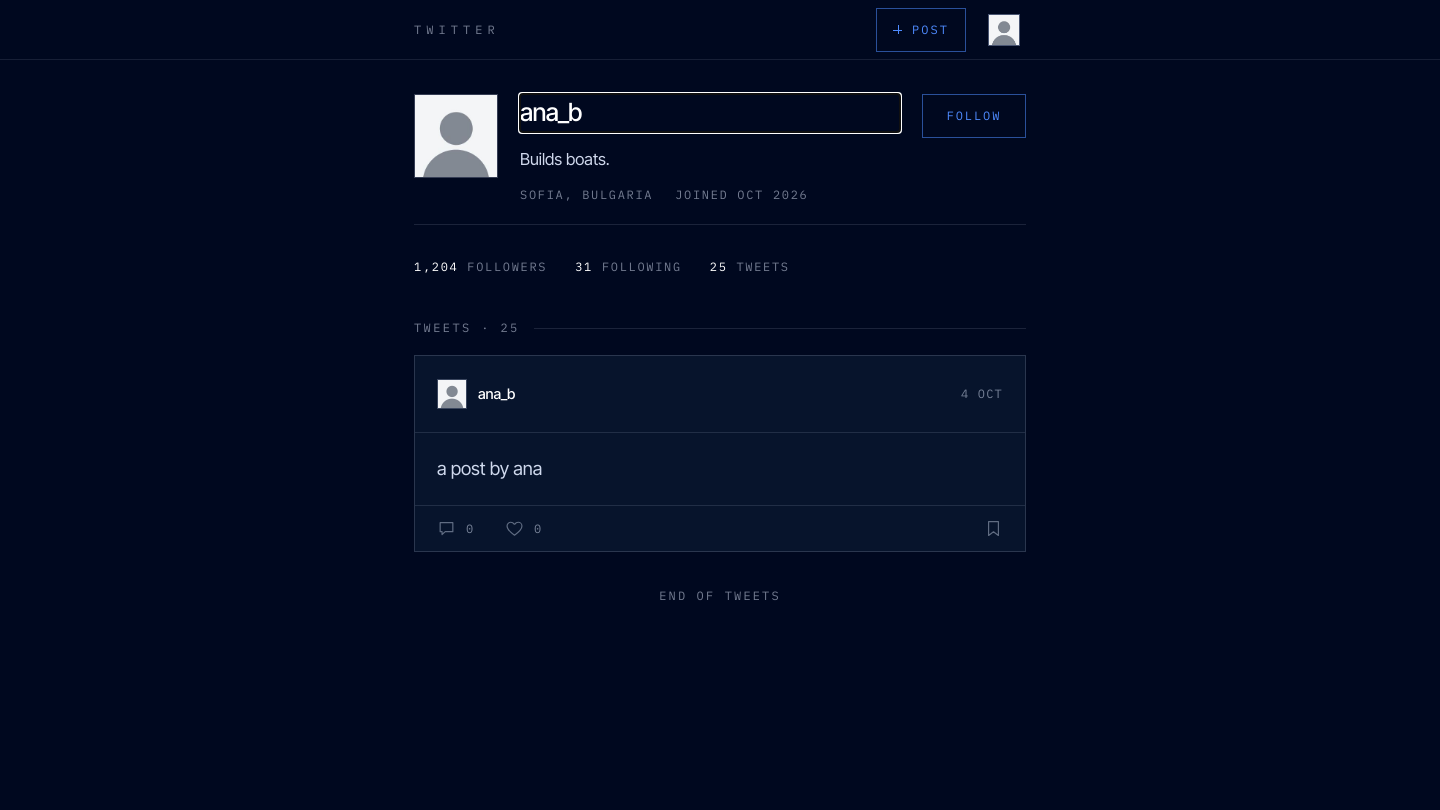
Scenario: the follower and following lists › should_open_the_followers_of_the_profile_when_the_followers_stat_is_pressed
Click the button "1,204 FOLLOWERS" at (481, 267), box [414,245,547,289]
Wait 1 ms
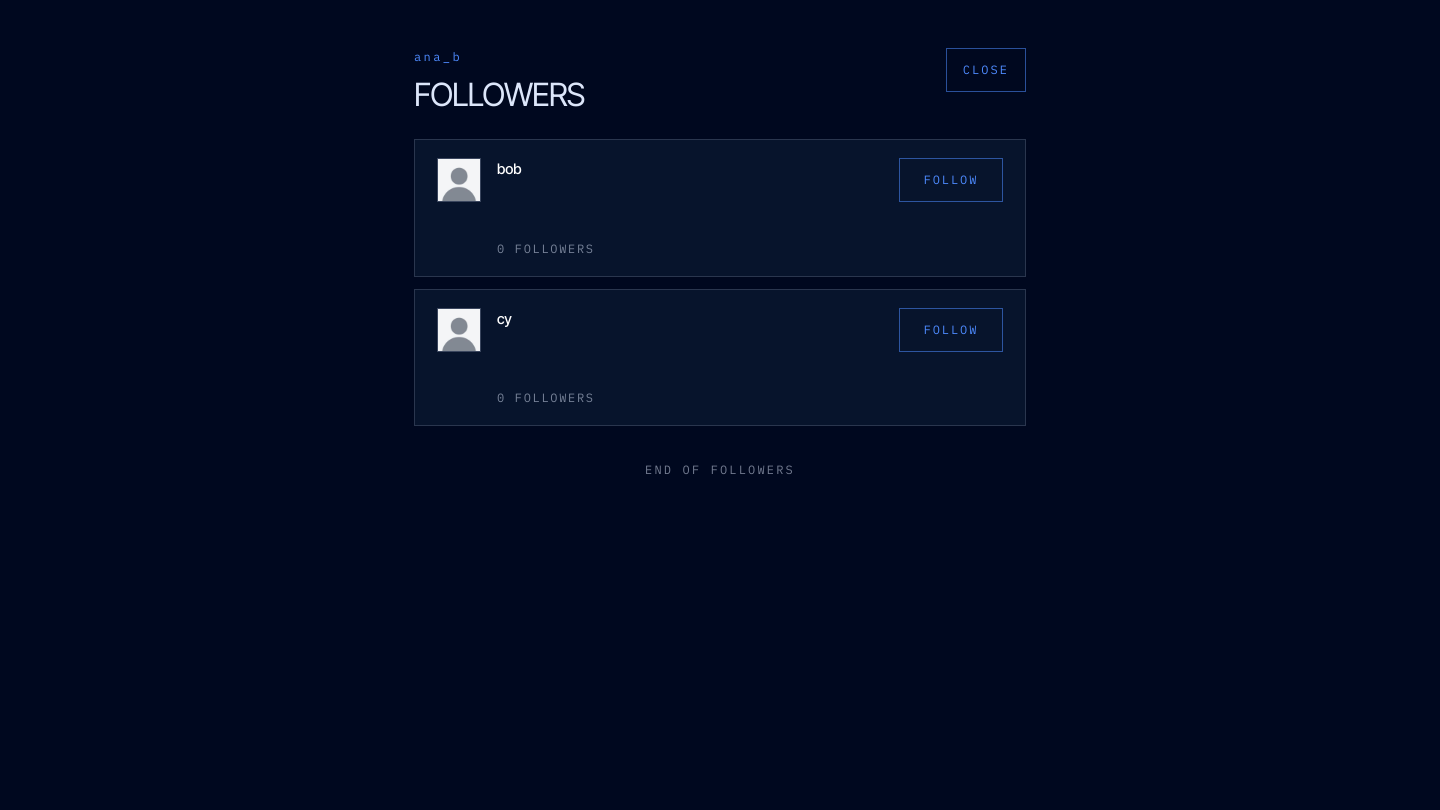
Result: the heading "FOLLOWERS" is shown at [414,78,584,111]
Result: the link "bob" is shown at [497,160,521,177]
Result: the link "cy" is shown at [497,310,512,327]
